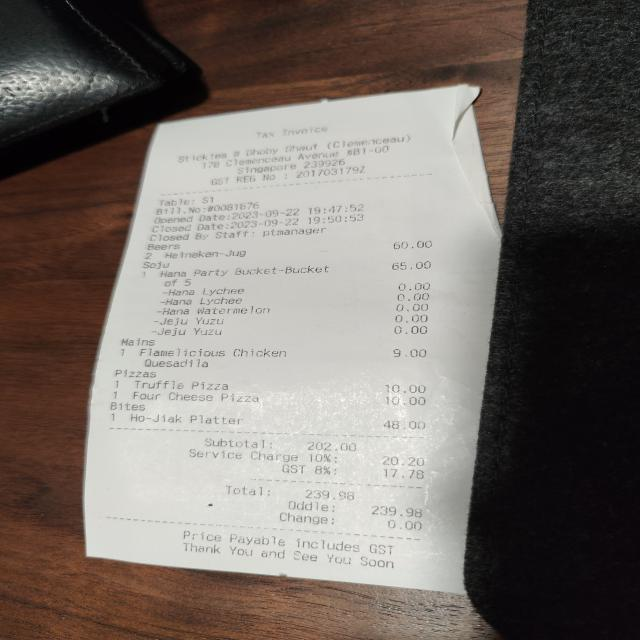bill_region: (97, 240, 441, 504)
